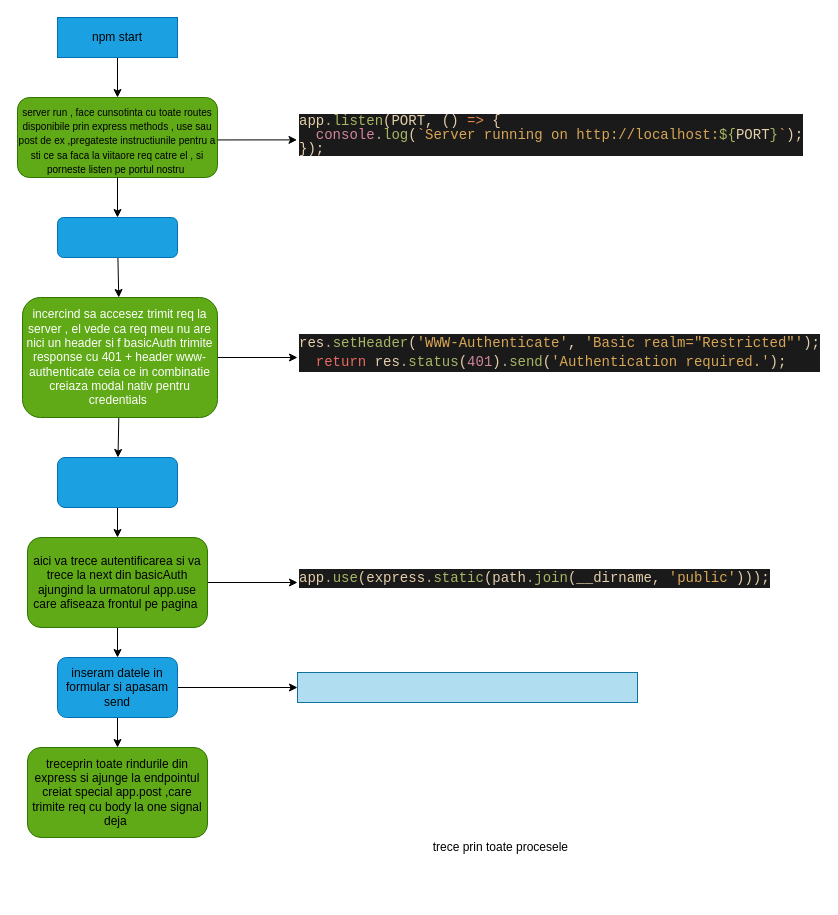
The diagram is 838 pixels wide and 915 high, and some of its shapes have lost their labels. Here are the shapes that lost their labels. From the top down, the centre of each, then its label:
At [117,237]: "localhost:PORT".
At [117,482]: "inseram datele si retrimitem alt req cu date pentru auth".
At [467,687]: "fetch('/copy-template', { method: 'POST', ... })".
